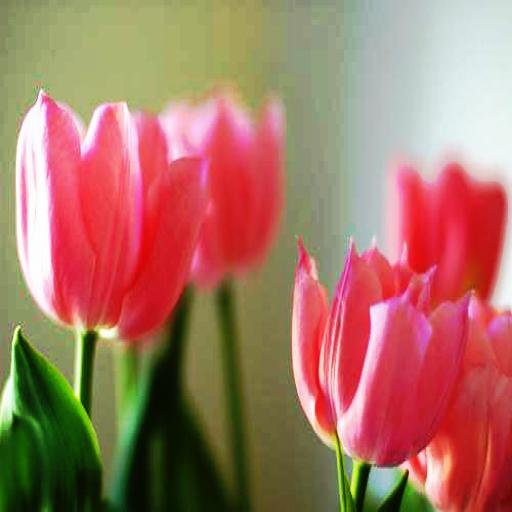tulip: (16, 88, 213, 344), (288, 235, 473, 464)
